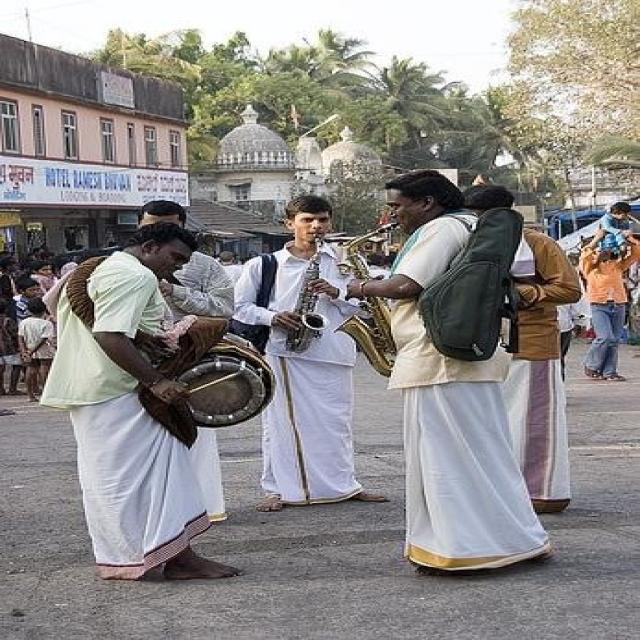saxophone: (339, 224, 406, 382), (281, 234, 331, 354)
